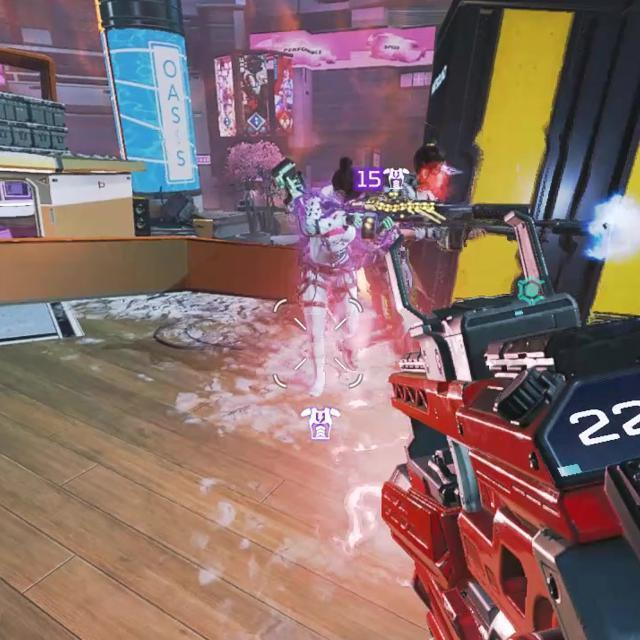avatar: (294, 156, 370, 398)
